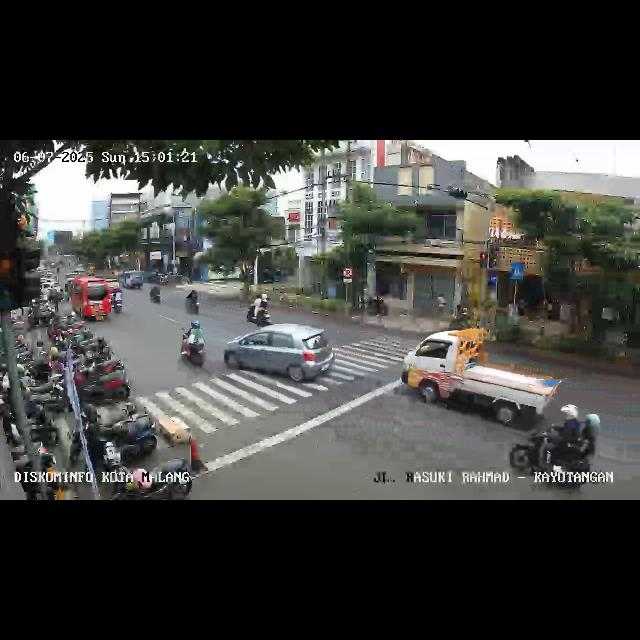car: (402, 337, 560, 431), (220, 325, 332, 395), (65, 276, 112, 322), (122, 272, 146, 292)
motorcycle: (514, 403, 598, 489), (179, 320, 207, 370), (248, 293, 272, 327), (187, 286, 201, 314), (112, 287, 125, 313), (150, 281, 162, 307)
